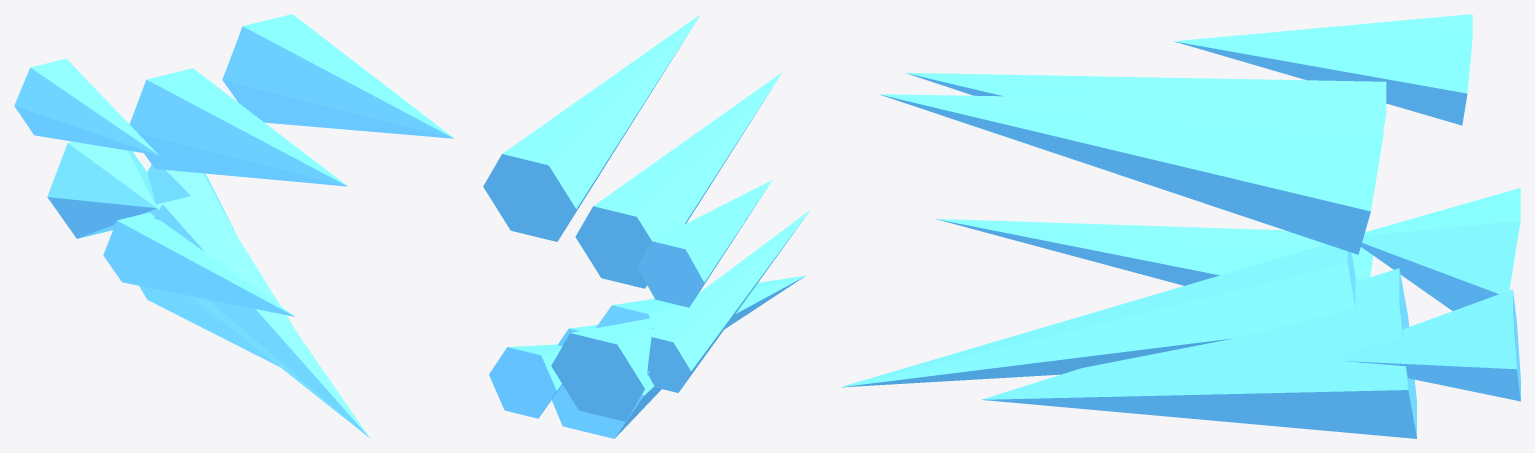
Rendered from Akariz_Crystal_Energy_Quartz.glb.
3 renders of one model, left to right at view 1: azimuth 30°, elevation 25°; view 2: azimuth 150°, elevation 25°; view 3: azimuth 270°, elevation 25°, orthographic. The views are drawn at different scales.
Parts seen in each view (by area): view 1: Akariz_Crystal_Energy_Quartz_7, Akariz_Crystal_Energy_Quartz_0, Akariz_Crystal_Energy_Quartz_5, Akariz_Crystal_Energy_Quartz_2, Akariz_Crystal_Energy_Quartz_6, Akariz_Crystal_Energy_Quartz_4, Akariz_Crystal_Energy_Quartz_1, Akariz_Crystal_Energy_Quartz_3; view 2: Akariz_Crystal_Energy_Quartz_7, Akariz_Crystal_Energy_Quartz_0, Akariz_Crystal_Energy_Quartz_2, Akariz_Crystal_Energy_Quartz_6, Akariz_Crystal_Energy_Quartz_4, Akariz_Crystal_Energy_Quartz_3, Akariz_Crystal_Energy_Quartz_5, Akariz_Crystal_Energy_Quartz_1; view 3: Akariz_Crystal_Energy_Quartz_7, Akariz_Crystal_Energy_Quartz_1, Akariz_Crystal_Energy_Quartz_5, Akariz_Crystal_Energy_Quartz_4, Akariz_Crystal_Energy_Quartz_2, Akariz_Crystal_Energy_Quartz_6, Akariz_Crystal_Energy_Quartz_3, Akariz_Crystal_Energy_Quartz_0.
Boxes of the visible parts, left/top/right/bottom form: Akariz_Crystal_Energy_Quartz_7: left=222, top=14, right=453, bottom=138; Akariz_Crystal_Energy_Quartz_0: left=129, top=68, right=347, bottom=186; Akariz_Crystal_Energy_Quartz_5: left=154, top=195, right=369, bottom=437; Akariz_Crystal_Energy_Quartz_2: left=103, top=212, right=295, bottom=316; Akariz_Crystal_Energy_Quartz_6: left=47, top=141, right=156, bottom=238; Akariz_Crystal_Energy_Quartz_4: left=14, top=58, right=158, bottom=155; Akariz_Crystal_Energy_Quartz_1: left=139, top=191, right=297, bottom=366; Akariz_Crystal_Energy_Quartz_3: left=147, top=164, right=236, bottom=235; Akariz_Crystal_Energy_Quartz_7: left=483, top=14, right=700, bottom=241; Akariz_Crystal_Energy_Quartz_0: left=575, top=72, right=781, bottom=288; Akariz_Crystal_Energy_Quartz_2: left=647, top=210, right=809, bottom=392; Akariz_Crystal_Energy_Quartz_6: left=551, top=317, right=653, bottom=421; Akariz_Crystal_Energy_Quartz_4: left=636, top=180, right=772, bottom=307; Akariz_Crystal_Energy_Quartz_3: left=489, top=344, right=562, bottom=418; Akariz_Crystal_Energy_Quartz_5: left=596, top=275, right=806, bottom=374; Akariz_Crystal_Energy_Quartz_1: left=552, top=325, right=661, bottom=438; Akariz_Crystal_Energy_Quartz_7: left=879, top=94, right=1383, bottom=254; Akariz_Crystal_Energy_Quartz_1: left=981, top=268, right=1416, bottom=438; Akariz_Crystal_Energy_Quartz_5: left=840, top=244, right=1356, bottom=387; Akariz_Crystal_Energy_Quartz_4: left=1174, top=14, right=1472, bottom=125; Akariz_Crystal_Energy_Quartz_2: left=934, top=218, right=1373, bottom=285; Akariz_Crystal_Energy_Quartz_6: left=1361, top=188, right=1520, bottom=310; Akariz_Crystal_Energy_Quartz_3: left=1341, top=289, right=1520, bottom=401; Akariz_Crystal_Energy_Quartz_0: left=905, top=72, right=1386, bottom=127.
Bounding box in the file's own units: 1.51 × 1.49 × 2.42.
